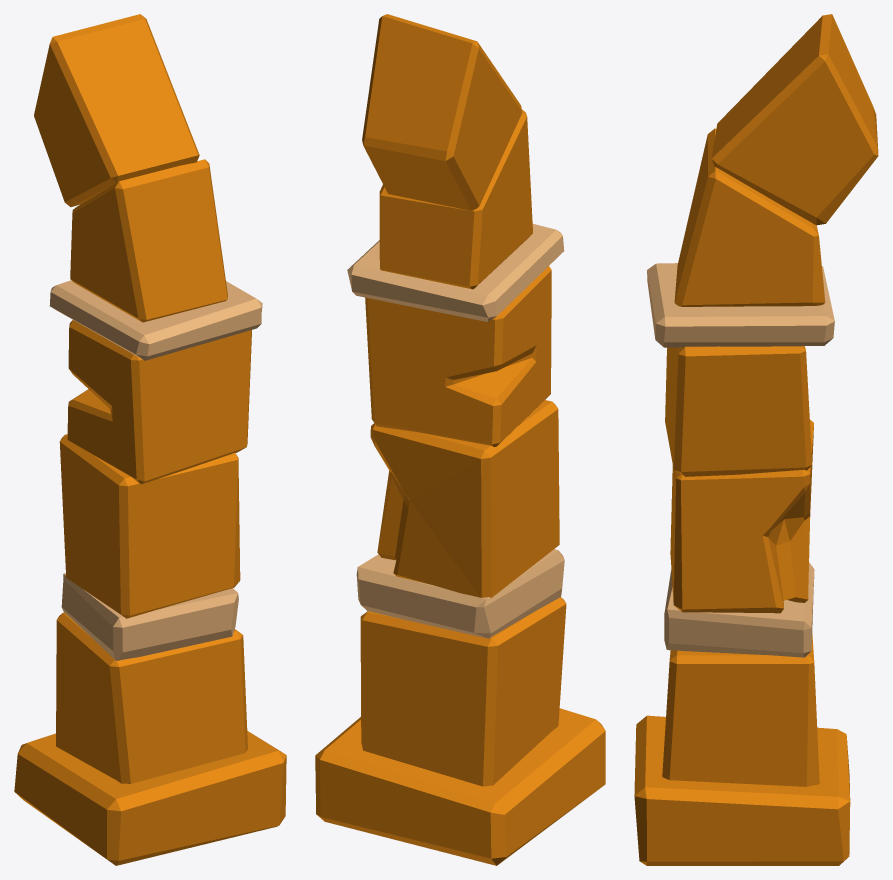
Rendered from Columna_bien.fbx.
3 renders of one model, left to right at view 1: azimuth 30°, elevation 25°; view 2: azimuth 150°, elevation 25°; view 3: azimuth 270°, elevation 25°, orthographic. The views are drawn at different scales.
Visible parts, largest first — view 1: Columna; view 2: Columna; view 3: Columna.
Boxes of the visible parts, left/top/right/bottom form: Columna: left=14, top=14, right=286, bottom=865; Columna: left=315, top=14, right=605, bottom=865; Columna: left=634, top=14, right=878, bottom=865.
Size of the model in its own units: 235 by 955 by 268.
